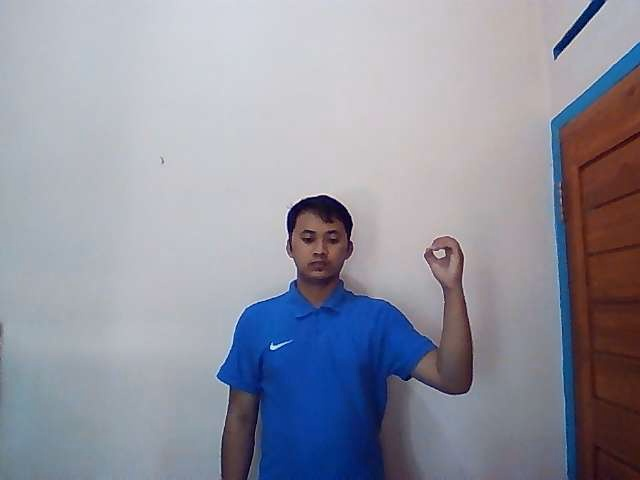O: (423, 235, 466, 286)
